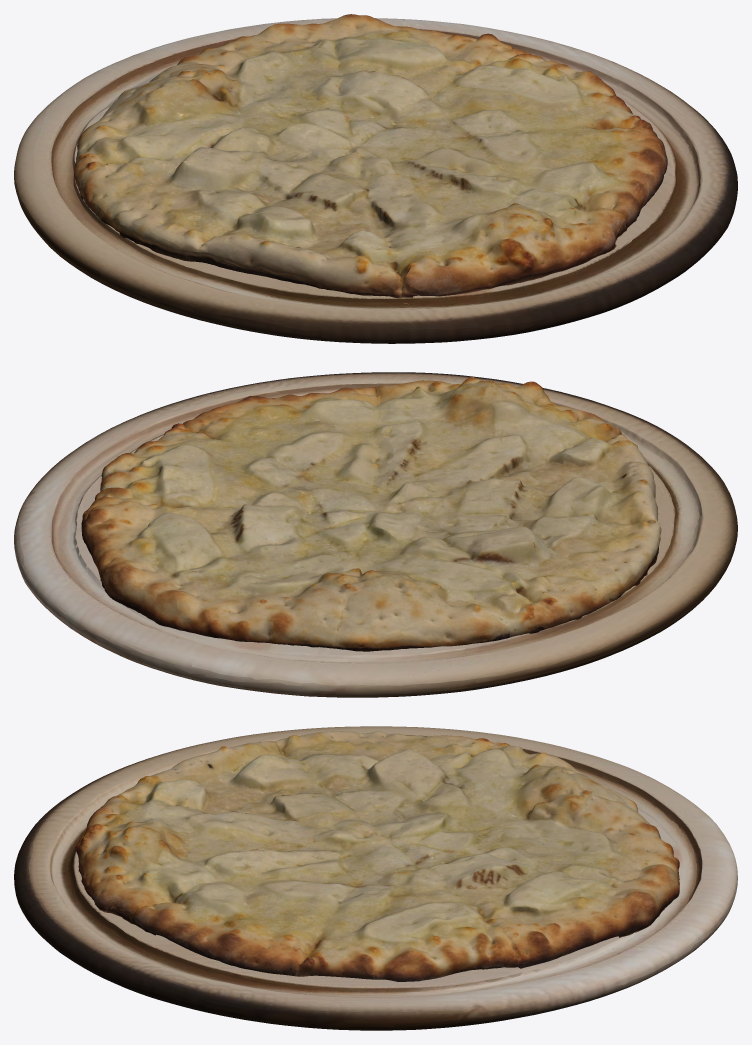
File: dayere.roosh.panir.glb
3 views of the same model, one above another, from view 1: azimuth 30°, elevation 25°; view 2: azimuth 150°, elevation 25°; view 3: azimuth 270°, elevation 25° (orthographic). The views are drawn at different scales.
Parts seen in each view (by area): view 1: /Root/Scenes/Scene/Object_407/Object_408/Submesh_0, /Root/Scenes/Scene/Object_407/Object_411/Object_412/Submesh_; view 2: /Root/Scenes/Scene/Object_407/Object_408/Submesh_0, /Root/Scenes/Scene/Object_407/Object_411/Object_412/Submesh_; view 3: /Root/Scenes/Scene/Object_407/Object_408/Submesh_0, /Root/Scenes/Scene/Object_407/Object_411/Object_412/Submesh_.
Boxes of the visible parts, x1,y1,x2,y2 form: /Root/Scenes/Scene/Object_407/Object_408/Submesh_0: (74,14,667,298); /Root/Scenes/Scene/Object_407/Object_411/Object_412/Submesh_: (14,18,737,343); /Root/Scenes/Scene/Object_407/Object_408/Submesh_0: (81,377,661,651); /Root/Scenes/Scene/Object_407/Object_411/Object_412/Submesh_: (14,372,737,697); /Root/Scenes/Scene/Object_407/Object_408/Submesh_0: (75,731,679,981); /Root/Scenes/Scene/Object_407/Object_411/Object_412/Submesh_: (14,726,737,1030).
Bounding box in the file's own units: 0.333 × 0.0358 × 0.3489.
Materials: 2 (2 with a texture image).
